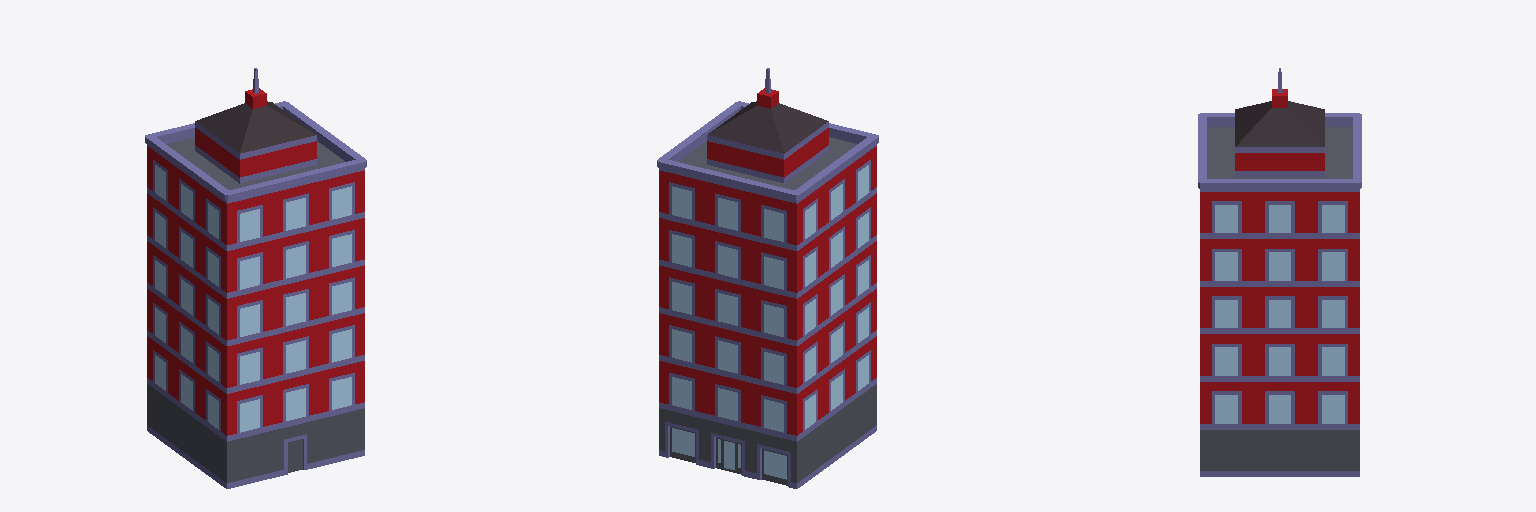
Rendered from insta_residential_brick_4.obj.
3 views of the same model, side by side, from view 1: azimuth 30°, elevation 25°; view 2: azimuth 150°, elevation 25°; view 3: azimuth 270°, elevation 25° (orthographic).
Parts seen in each view (by area): view 1: city_residential_4__defaultMat(Clone), city_residential_4_border(Clone), city_residential_4_door(Clone), city_residential_4_trim(Clone), city_residential_4_window(Clone), city_residential_4_roof(Clone); view 2: city_residential_4__defaultMat(Clone), city_residential_4_border(Clone), city_residential_4_door(Clone), city_residential_4_window(Clone), city_residential_4_trim(Clone), city_residential_4_roof(Clone); view 3: city_residential_4__defaultMat(Clone), city_residential_4_border(Clone), city_residential_4_door(Clone), city_residential_4_trim(Clone), city_residential_4_window(Clone), city_residential_4_roof(Clone).
Boxes of the visible parts, x1,y1,x2,y2 form: city_residential_4__defaultMat(Clone): [147, 88, 364, 435]; city_residential_4_border(Clone): [145, 68, 366, 488]; city_residential_4_door(Clone): [147, 137, 364, 482]; city_residential_4_trim(Clone): [155, 179, 351, 432]; city_residential_4_window(Clone): [155, 165, 351, 417]; city_residential_4_roof(Clone): [195, 101, 315, 153]; city_residential_4__defaultMat(Clone): [659, 88, 876, 435]; city_residential_4_border(Clone): [657, 68, 878, 488]; city_residential_4_door(Clone): [659, 137, 876, 485]; city_residential_4_window(Clone): [672, 165, 868, 479]; city_residential_4_trim(Clone): [672, 179, 868, 432]; city_residential_4_roof(Clone): [708, 101, 828, 153]; city_residential_4__defaultMat(Clone): [1200, 89, 1359, 423]; city_residential_4_border(Clone): [1198, 68, 1361, 476]; city_residential_4_door(Clone): [1200, 127, 1359, 470]; city_residential_4_trim(Clone): [1215, 219, 1344, 423]; city_residential_4_window(Clone): [1215, 205, 1344, 408]; city_residential_4_roof(Clone): [1235, 101, 1324, 146].
Bounding box in the file's own units: 1 × 2.52 × 1.